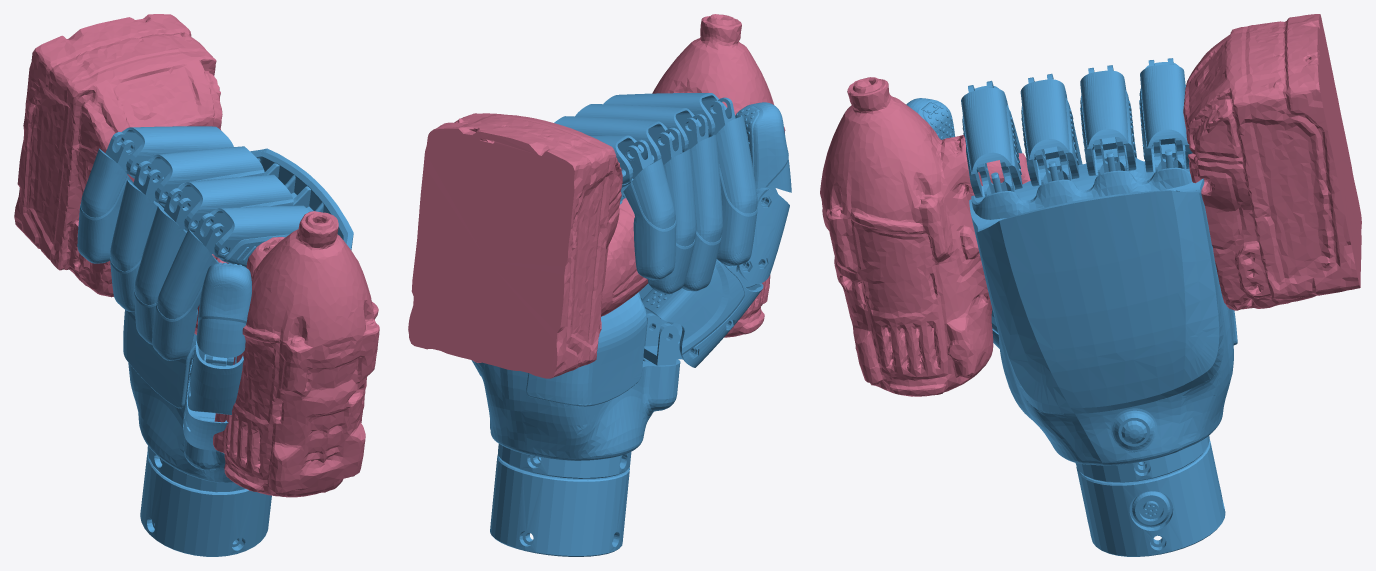
3 views of the same model, side by side, from view 1: azimuth 30°, elevation 25°; view 2: azimuth 150°, elevation 25°; view 3: azimuth 270°, elevation 25° (orthographic). The views are drawn at different scales.
Parts seen in each view (by area): view 1: 4; view 2: 4; view 3: 4.
Part boxes in pixels (<box>): 4: <box>14,14,379,556</box>; 4: <box>408,14,791,556</box>; 4: <box>820,14,1361,556</box>.
Size of the model in its own units: 0.0874 by 0.1967 by 0.1981.
